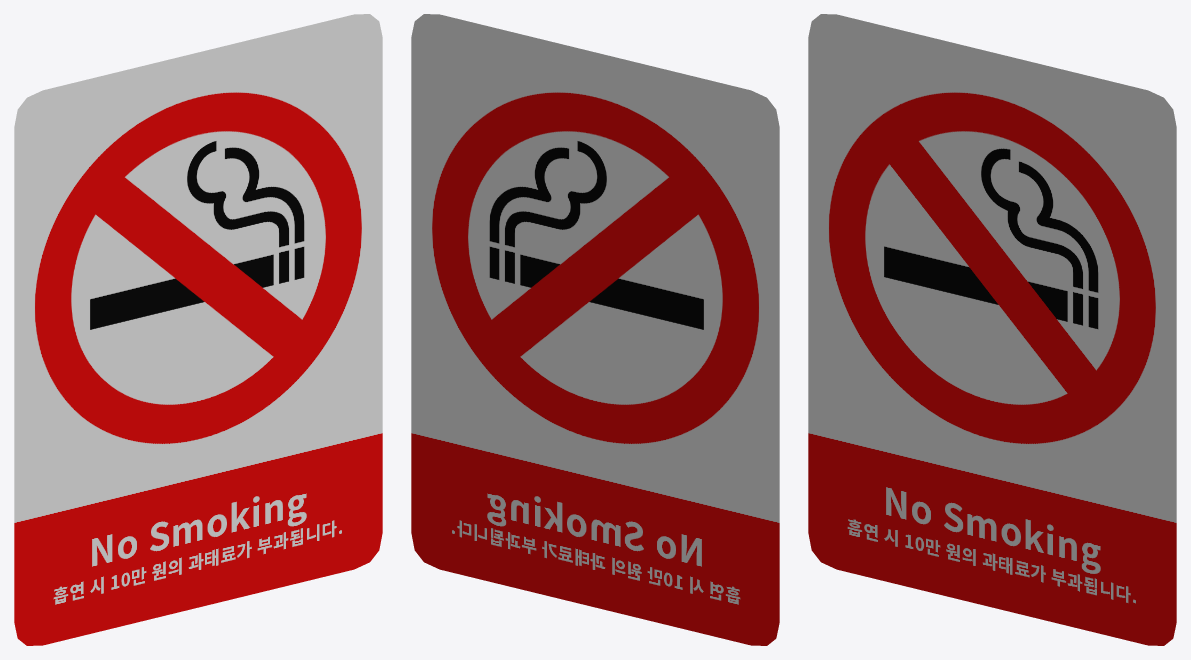
Rendered from poster_m.FBX.
3 views of the same model, side by side, from view 1: azimuth 30°, elevation 25°; view 2: azimuth 150°, elevation 25°; view 3: azimuth 330°, elevation 25° (orthographic).
Parts seen in each view (by area): view 1: posterm; view 2: posterm; view 3: posterm.
Boxes of the visible parts, <box> form: posterm: <box>14,14,382,645</box>; posterm: <box>411,14,779,645</box>; posterm: <box>808,14,1176,645</box>.
Size of the model in its own units: 31.18 by 44.91 by 8.68e-06.
